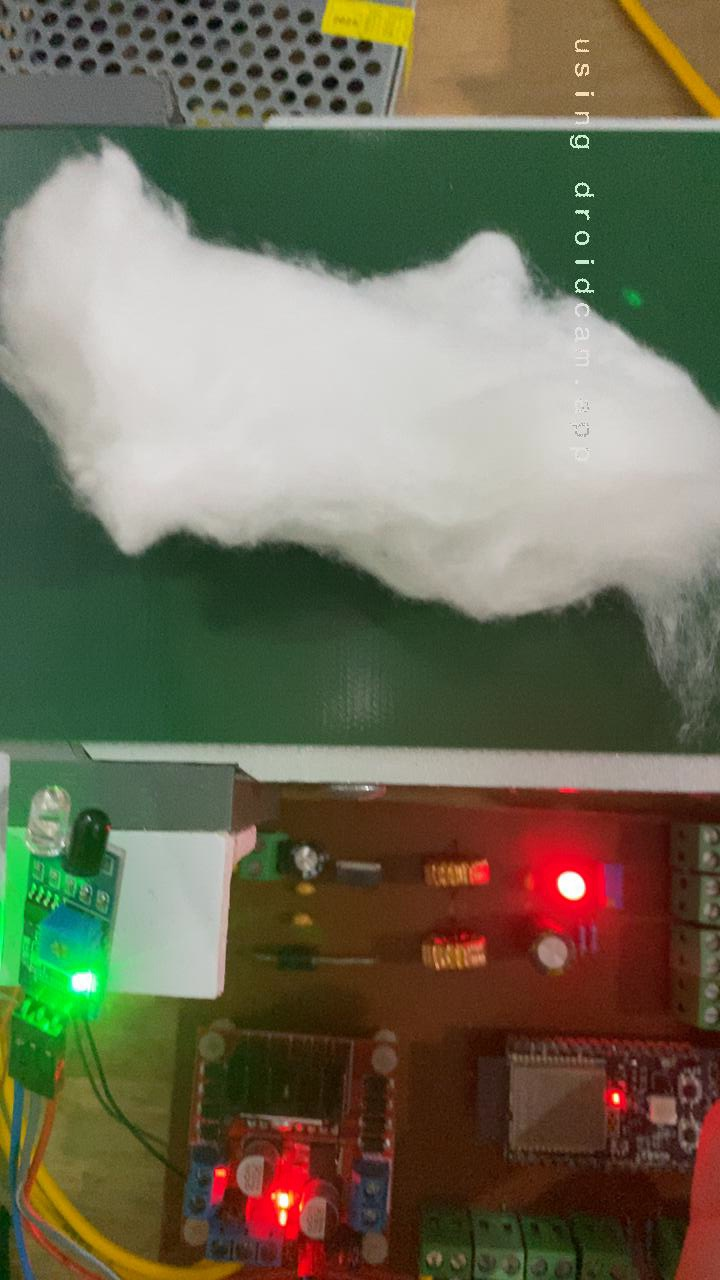cotton: (0, 129, 720, 681)
